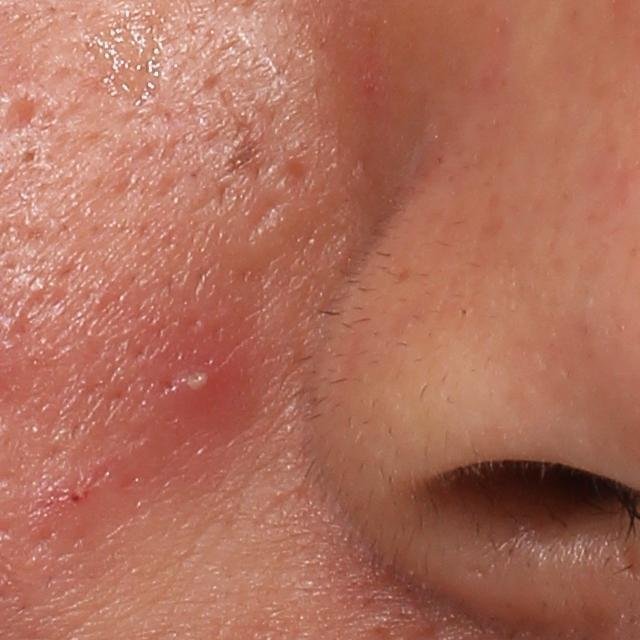atrophic_scar: (285, 152, 315, 192)
pustule: (167, 361, 236, 416)
